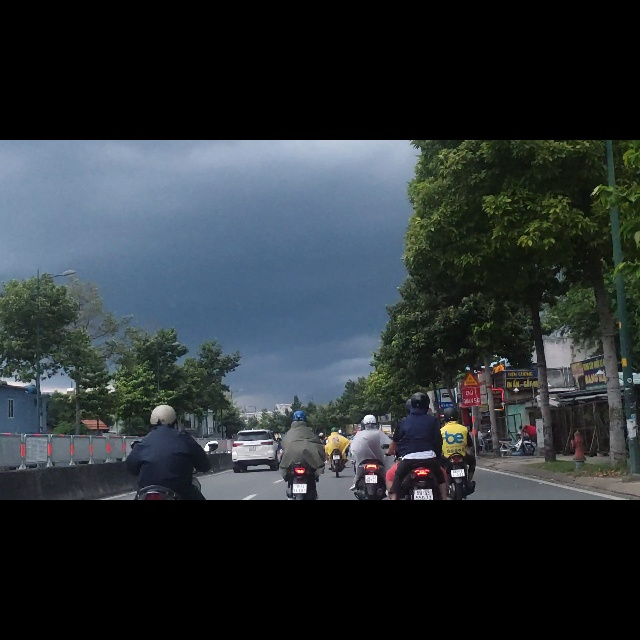bien_hieu_lenh: (439, 439, 456, 476), (462, 413, 479, 438)
